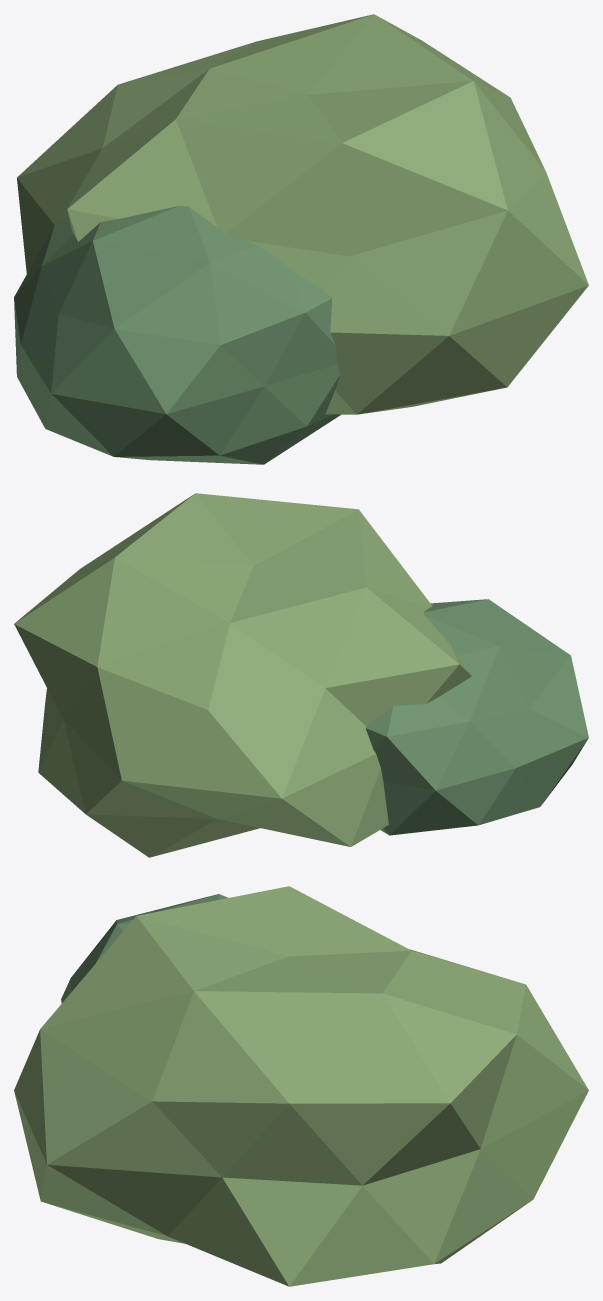
The model's file is HK_Shrub.glb.
3 renders of one model, top to bottom at view 1: azimuth 30°, elevation 25°; view 2: azimuth 150°, elevation 25°; view 3: azimuth 270°, elevation 25°, orthographic. The views are drawn at different scales.
Parts seen in each view (by area): view 1: HK_Shrub; view 2: HK_Shrub; view 3: HK_Shrub.
Boxes of the visible parts, box(x1,y1,x2,y2) form: HK_Shrub: box(14, 14, 588, 464); HK_Shrub: box(14, 493, 588, 857); HK_Shrub: box(14, 886, 588, 1286).
Size of the model in its own units: 1.81 by 0.9934 by 1.63.
